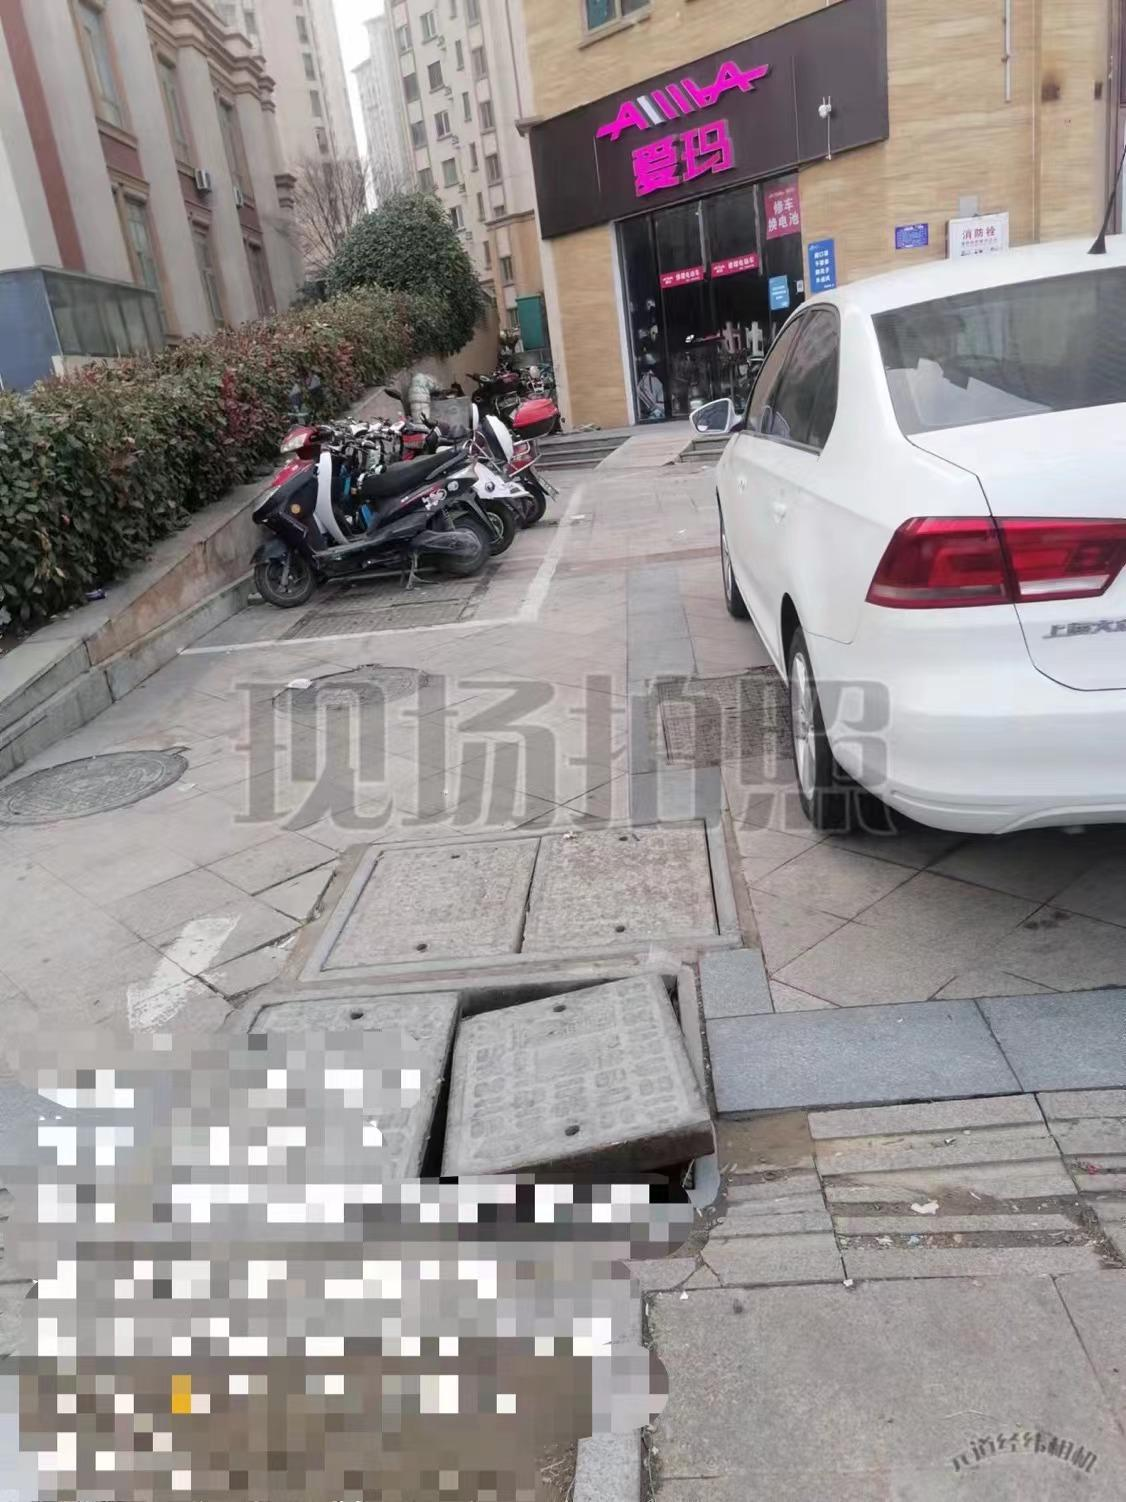wellcover: (134, 950, 775, 1254), (258, 801, 788, 985), (1, 736, 239, 848)
